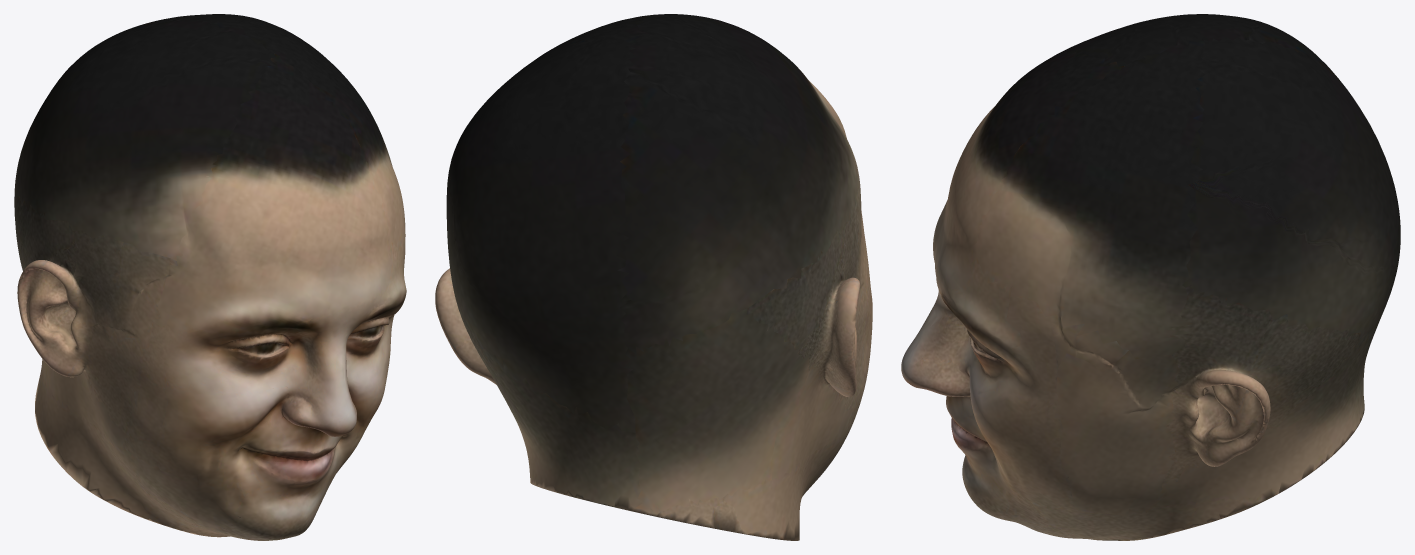
File: head_sherif.glb
3 renders of one model, left to right at view 1: azimuth 30°, elevation 25°; view 2: azimuth 150°, elevation 25°; view 3: azimuth 270°, elevation 25°, orthographic. The views are drawn at different scales.
Visible parts, largest first — view 1: Sherif; view 2: Sherif; view 3: Sherif.
Boxes of the visible parts, bbox=[...] form: Sherif: bbox=[14, 14, 406, 540]; Sherif: bbox=[435, 14, 872, 540]; Sherif: bbox=[901, 14, 1400, 540].
Size of the model in its own units: 0.1895 by 0.2375 by 0.2118.
1 material, 1 textured.
